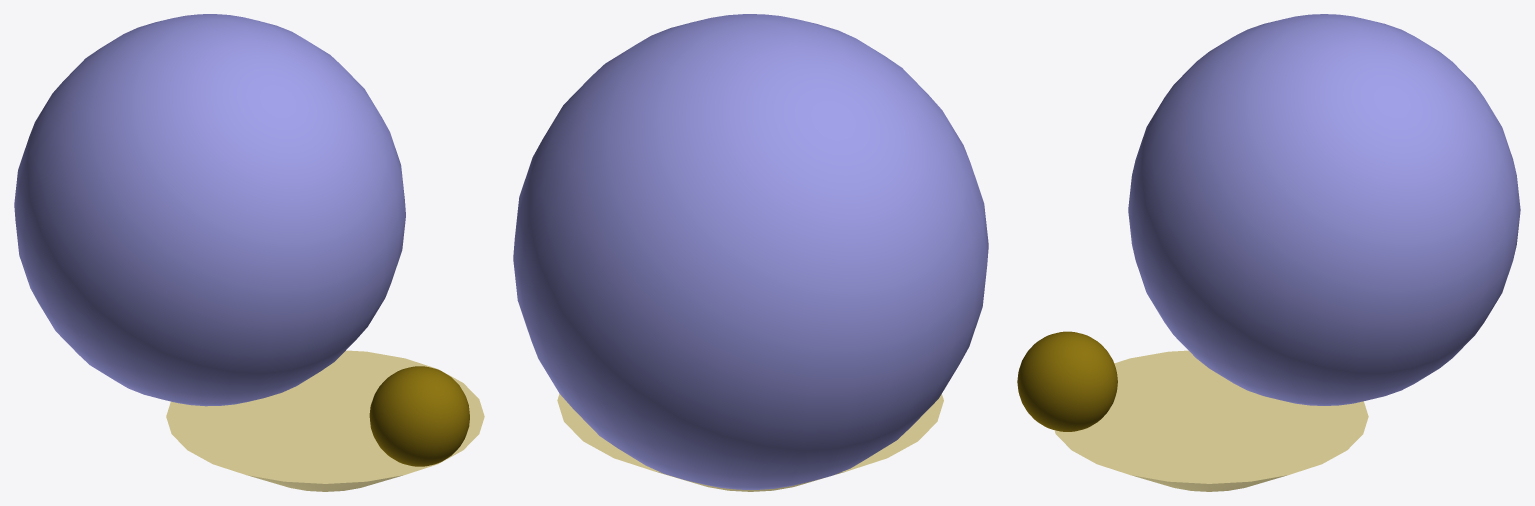
The model's file is twoballplate.obj.
3 views of the same model, side by side, from view 1: azimuth 30°, elevation 25°; view 2: azimuth 150°, elevation 25°; view 3: azimuth 270°, elevation 25° (orthographic). The views are drawn at different scales.
Visible parts, largest first — view 1: Sphere001, Cone001, Sphere002; view 2: Sphere001, Cone001; view 3: Sphere001, Cone001, Sphere002.
Boxes of the visible parts, left/top/right/bottom form: Sphere001: left=14, top=14, right=405, bottom=406; Cone001: left=166, top=350, right=484, bottom=491; Sphere002: left=369, top=366, right=469, bottom=466; Sphere001: left=513, top=14, right=988, bottom=489; Cone001: left=557, top=394, right=943, bottom=491; Sphere001: left=1128, top=14, right=1520, bottom=405; Cone001: left=1054, top=350, right=1368, bottom=491; Sphere002: left=1017, top=331, right=1117, bottom=431.
Bounding box in the file's own units: 62.42 × 65.55 × 74.42.
